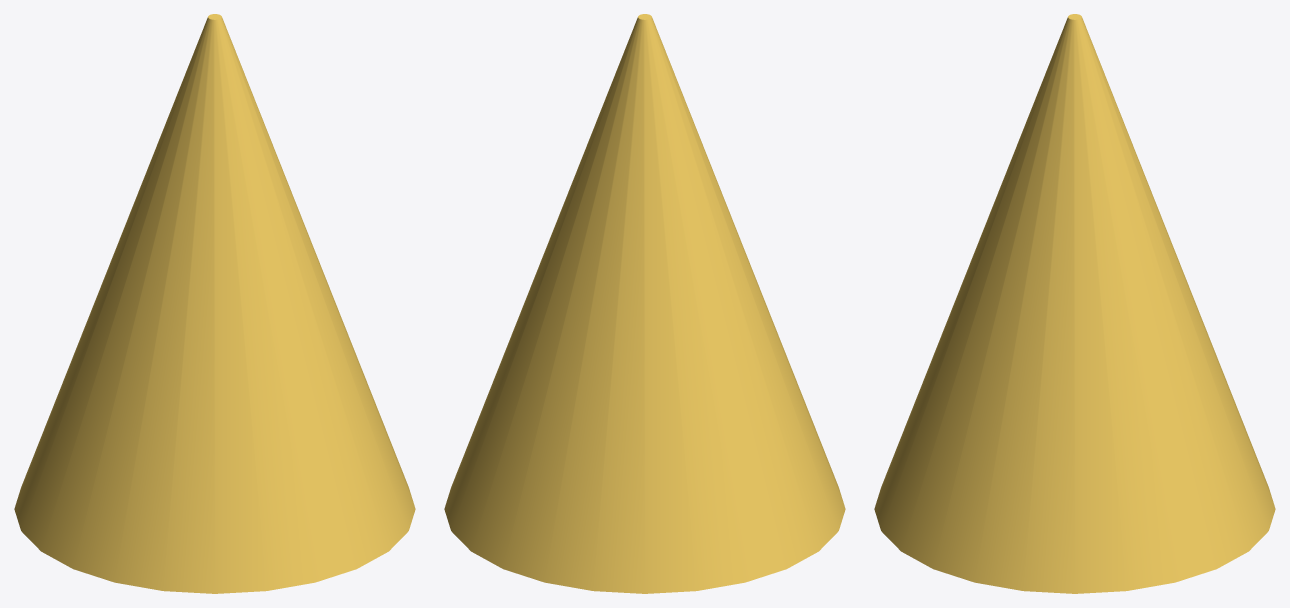
Rendered from Cono_Paralelo_BaseB.fbx.
3 views of the same model, side by side, from view 1: azimuth 30°, elevation 25°; view 2: azimuth 150°, elevation 25°; view 3: azimuth 270°, elevation 25° (orthographic).
Visible parts, largest first — view 1: Difference2; view 2: Difference2; view 3: Difference2.
Part boxes in pixels (box(x1,y1,x2,y2)): Difference2: box(14, 14, 415, 593); Difference2: box(444, 14, 845, 593); Difference2: box(874, 14, 1275, 593).
Bounding box in the file's own units: 57.51 × 77.83 × 57.51.
